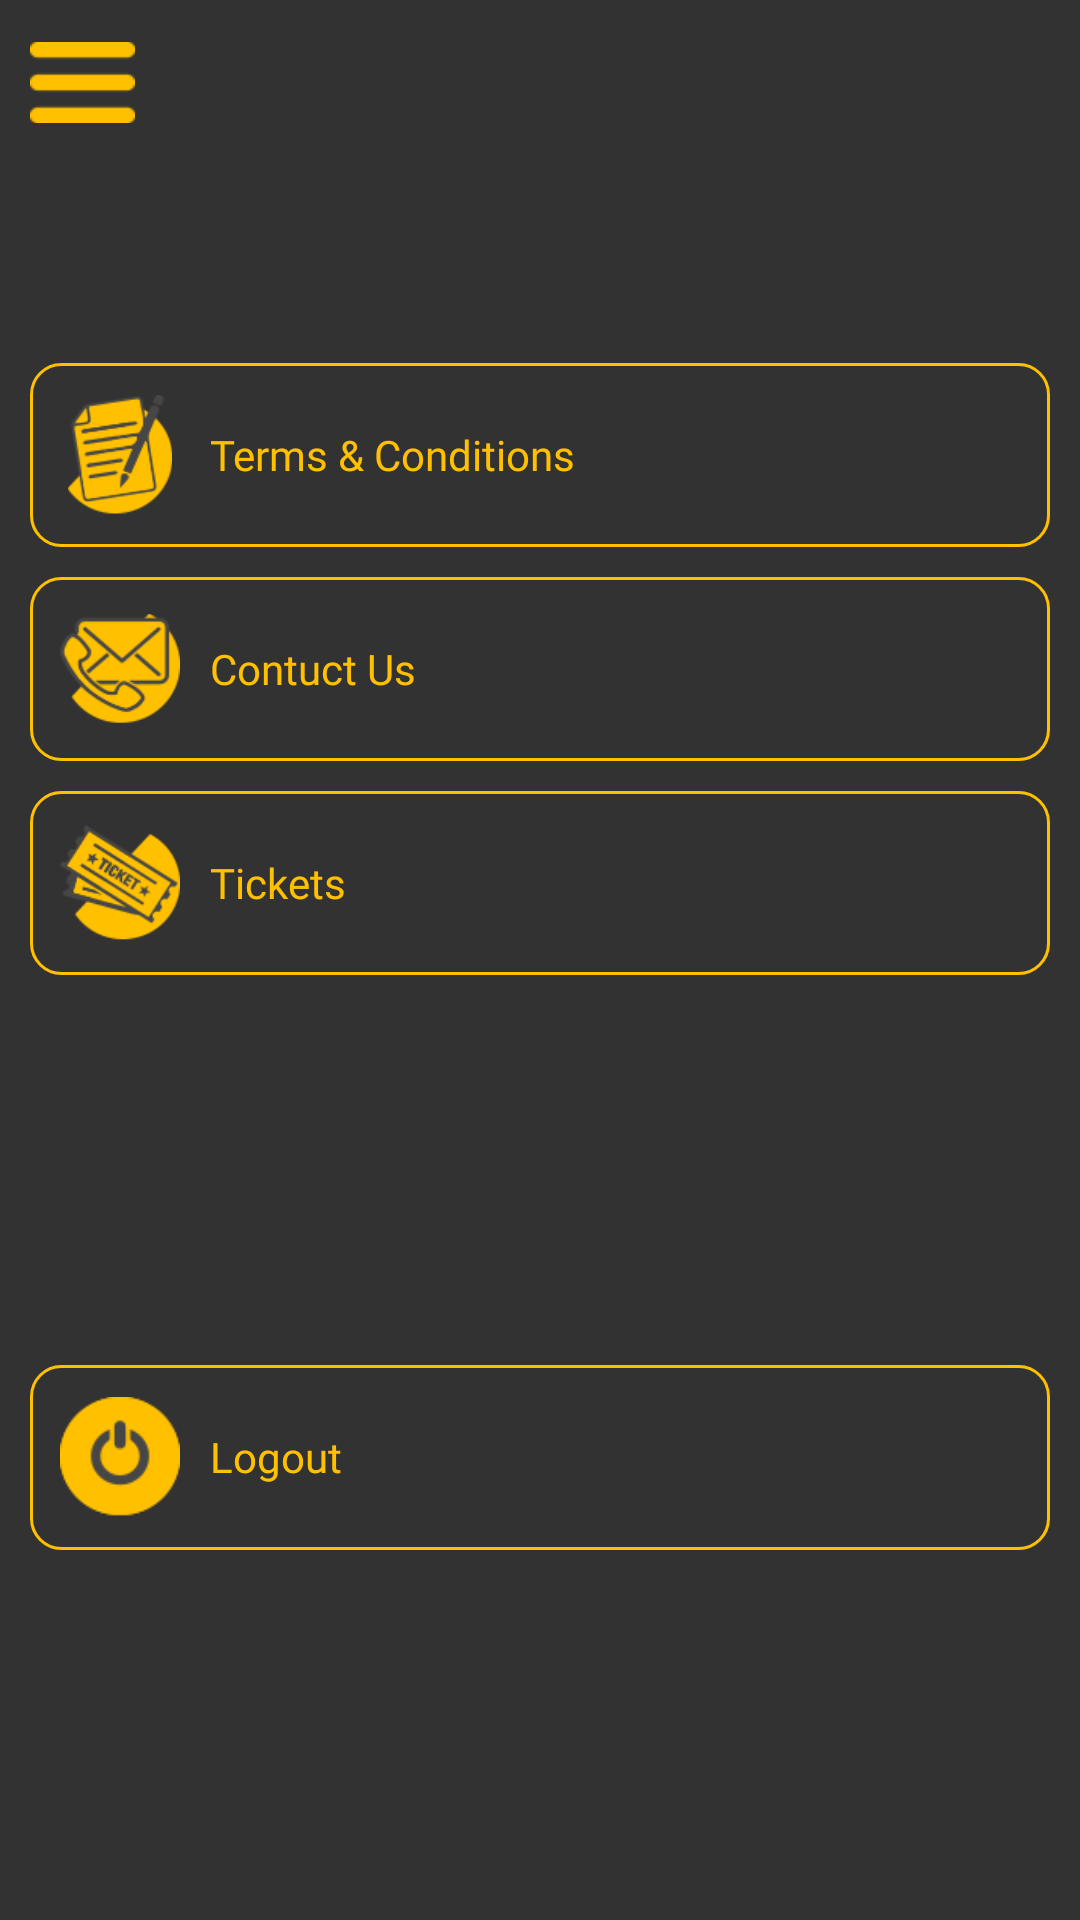

Icons on this 1080 × 1920 Android screen, each with the point to tap as [x,y]:
contactfilled: [121,668]
menuiconyellow: [82,82]
tncfilled: [120,455]
